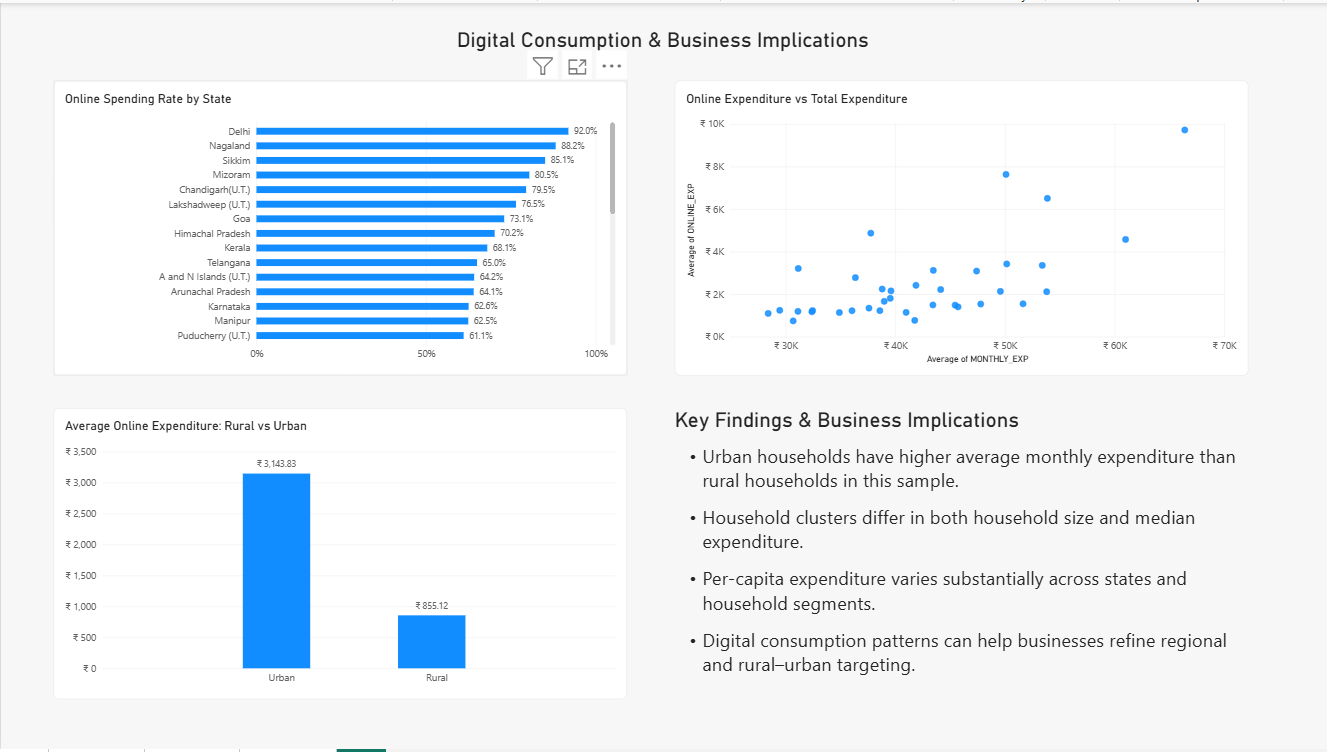

The dashboard page shown, as its layout file describes it:
{"tool":"powerbi","page":{"name":"Page 4","canvas":[1920,1080],"ordinal":3},"visuals":[{"type":"textbox","title":"Digital Consumption & Business Implications","box":[584.5,36.2,747.4,108.6],"z":0},{"type":"clusteredBarChart","title":"Online Spending Rate by State","fields":{"Category":["hces_visit_adjusted_household_table csv.State_Name"],"Y":["hces_visit_adjusted_household_table csv.Online Spending Rate"]},"box":[76,112.2,830.6,427.1],"z":1},{"type":"scatterChart","title":"Online Expenditure vs Total Expenditure","fields":{"Category":["hces_visit_adjusted_household_table csv.State_Name"],"X":["hces_visit_adjusted_household_table csv.MONTHLY_EXP"],"Y":["hces_visit_adjusted_household_table csv.ONLINE_EXP"]},"box":[975.4,112.2,830.6,427.1],"z":2},{"type":"clusteredColumnChart","title":"Average Online Expenditure: Rural vs Urban","fields":{"Category":["hces_visit_adjusted_household_table csv.Sector_Label"],"Y":["Avg(hces_visit_adjusted_household_table csv.ONLINE_EXP)"]},"box":[76,586.3,830.6,421.7],"z":3},{"type":"textbox","title":"Key Findings & Business Implications","box":[975.4,586.3,830.6,421.7],"z":4}]}

Visuals, with their boxes in screenshot pixels (x1, y1, x2, y2), scaled from the page's 1920x1080 canvas onto the 1327x752 screenshot:
"Digital Consumption & Business Implications" textbox: select_region(404, 25, 921, 101)
"Online Spending Rate by State" clusteredBarChart: select_region(53, 78, 627, 376)
"Online Expenditure vs Total Expenditure" scatterChart: select_region(674, 78, 1248, 376)
"Average Online Expenditure: Rural vs Urban" clusteredColumnChart: select_region(53, 408, 627, 702)
"Key Findings & Business Implications" textbox: select_region(674, 408, 1248, 702)
